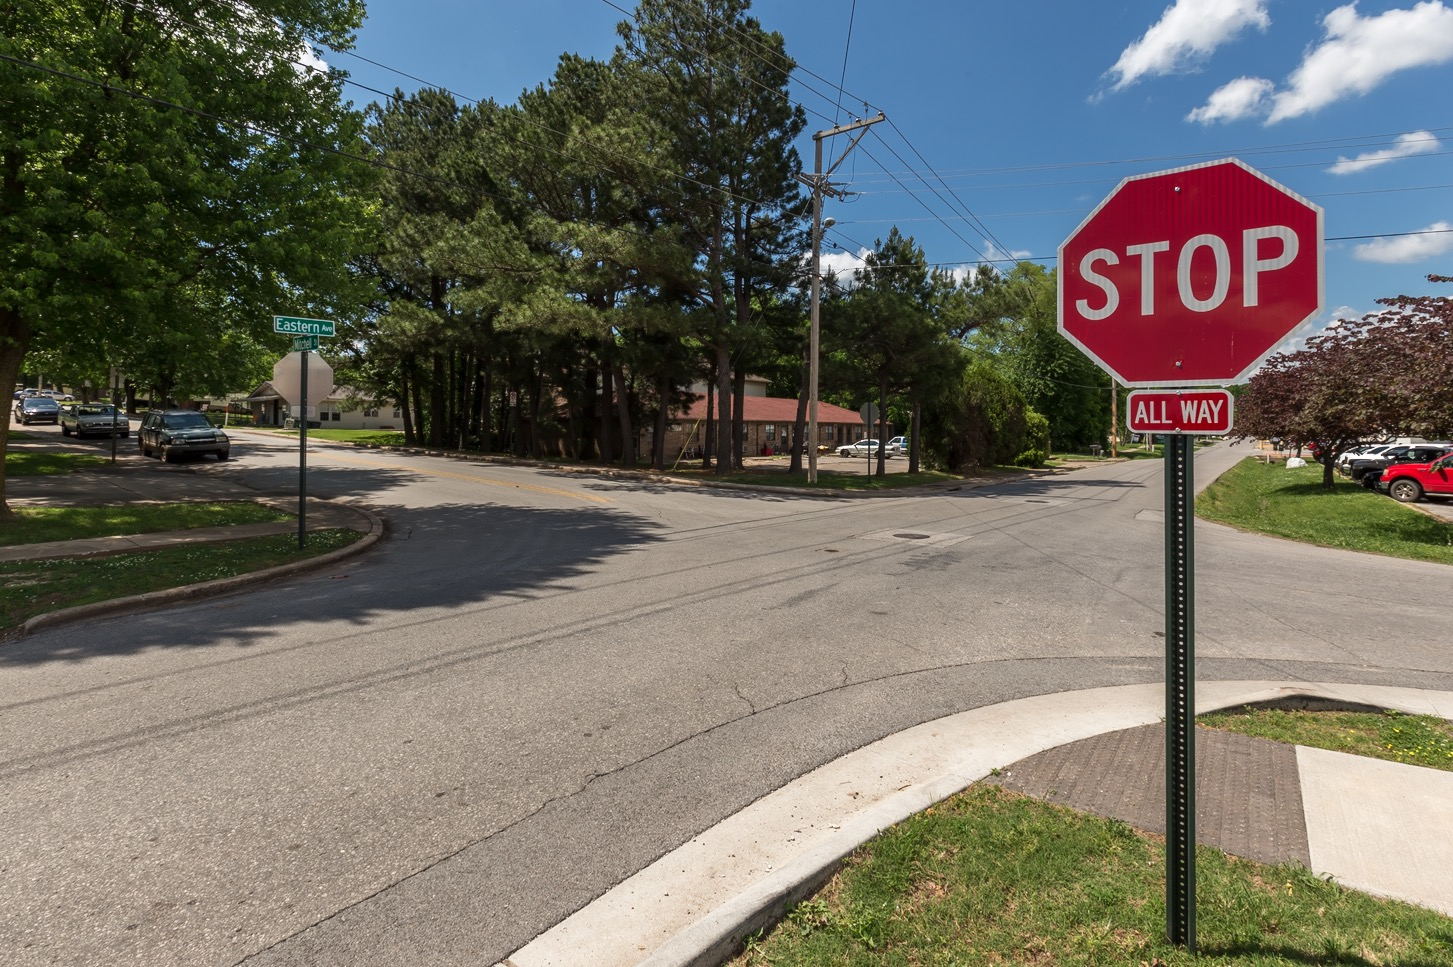stop: (1053, 162, 1325, 385)
